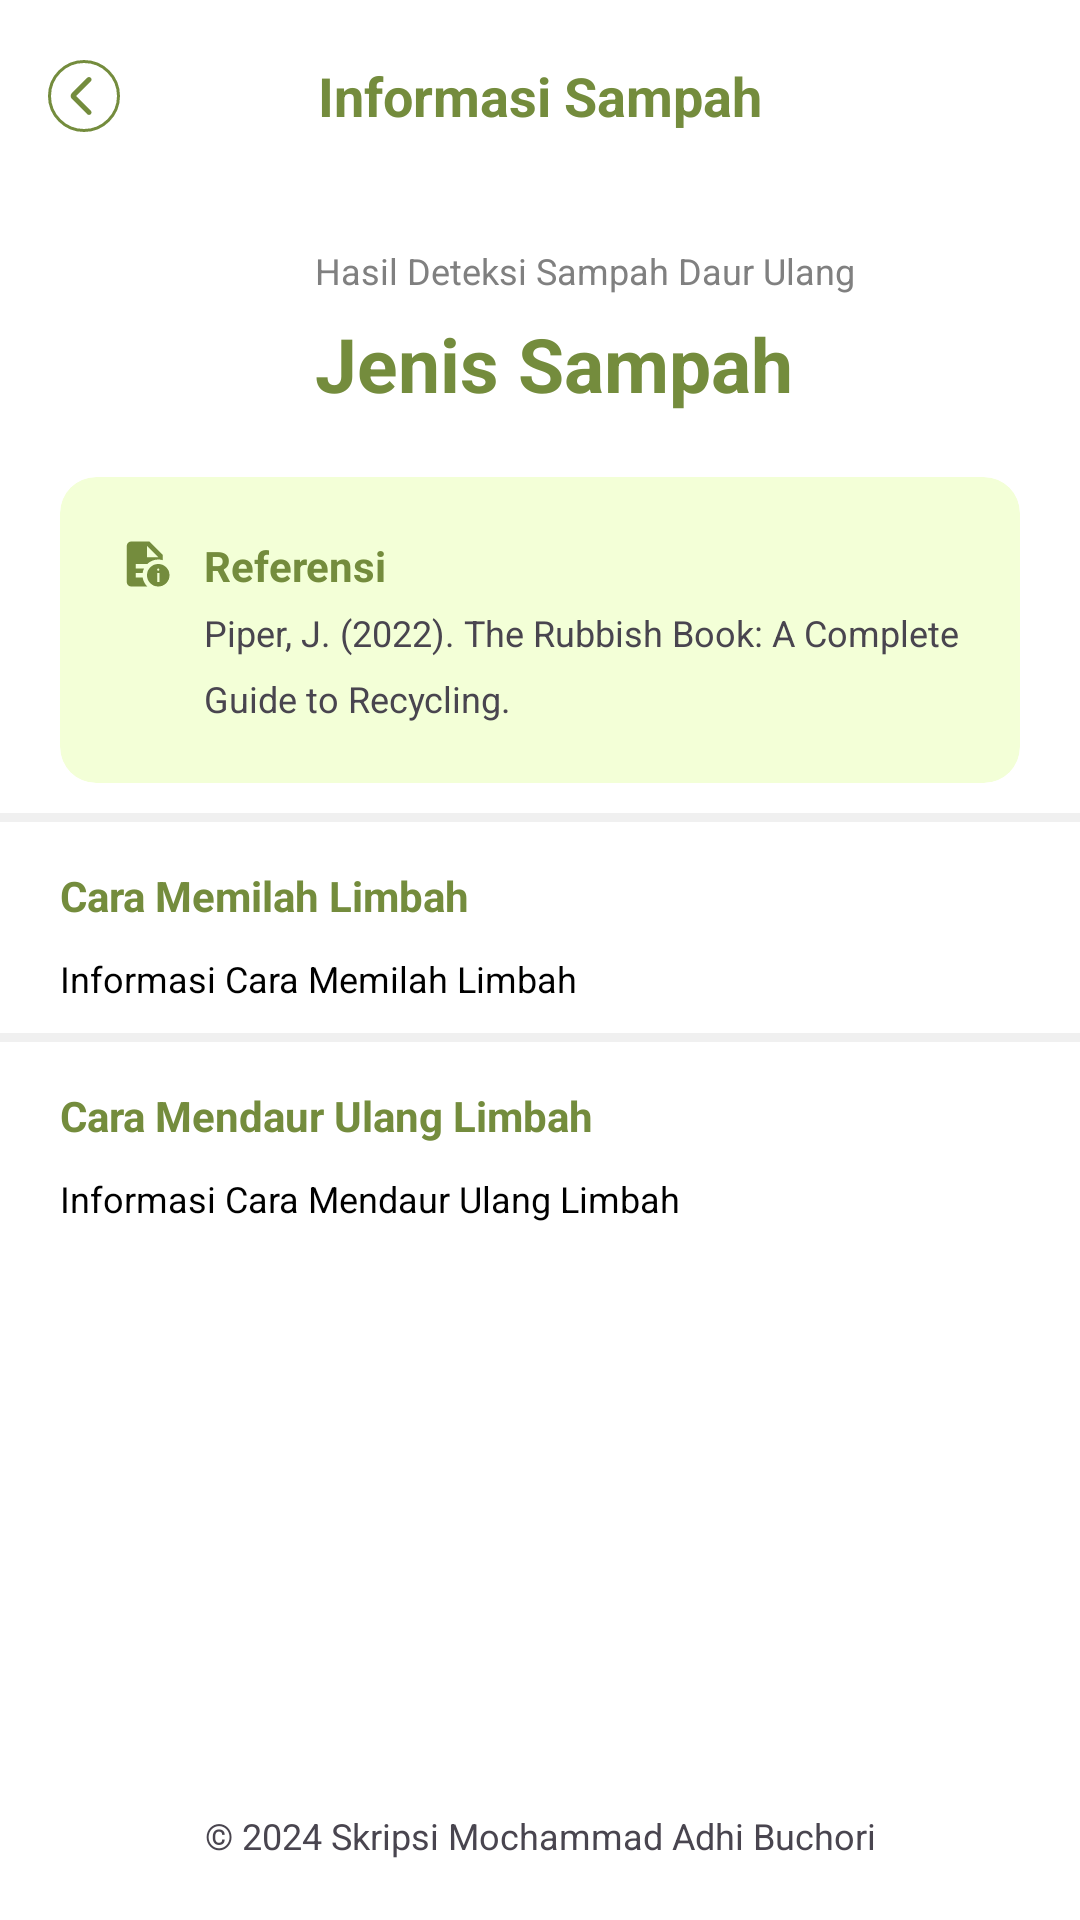

Named icons in this screenshot (1080x1920) and their bounding boxes, (x1, y1, x2, y2):
arrow back: (48, 60, 120, 132)
